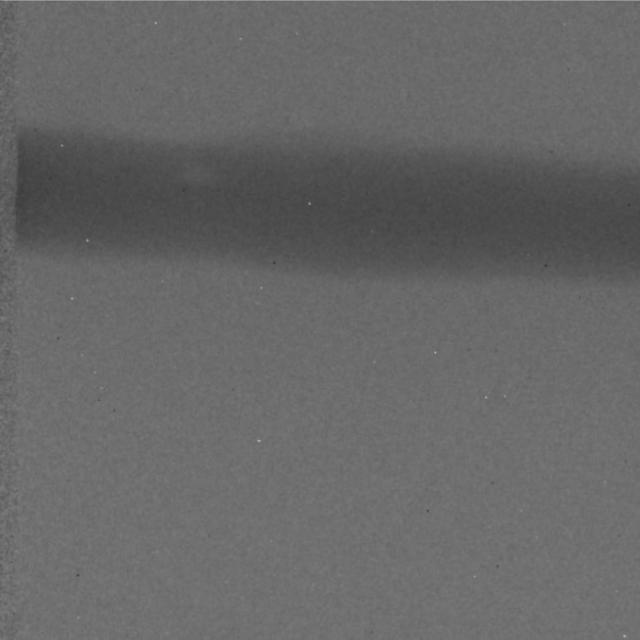slag-inclusion: (180, 159, 228, 189)
